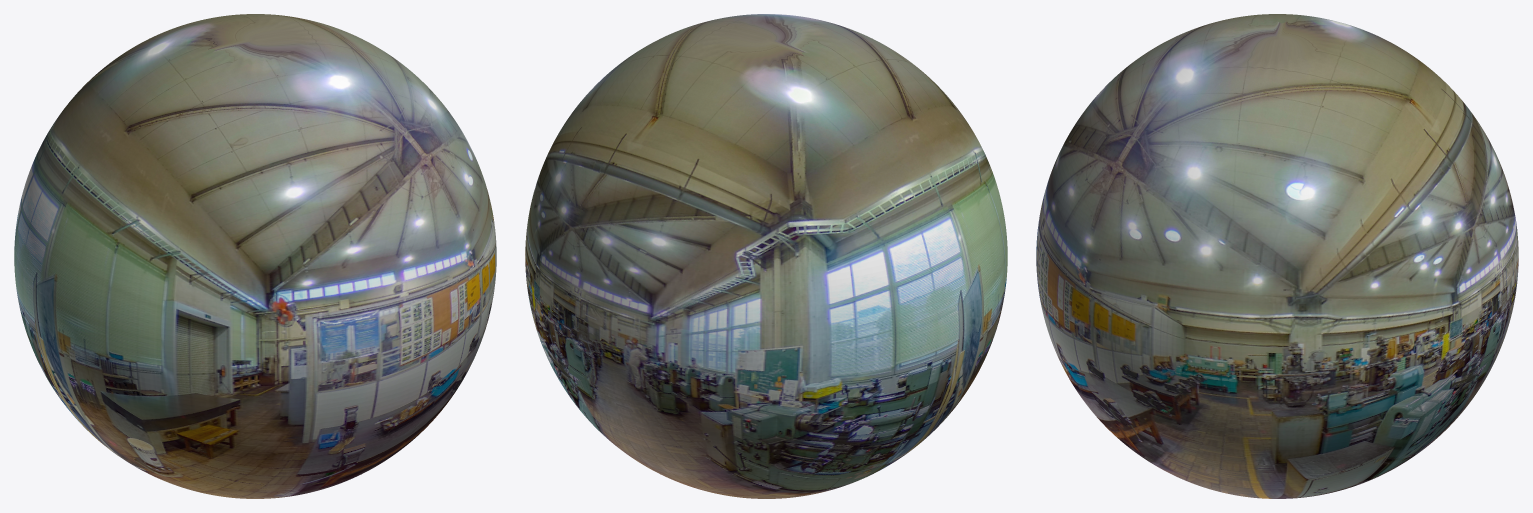
The model's file is koujoutou.fbx.
The picture shows the model from 3 angles, left to right: view 1: azimuth 30°, elevation 25°; view 2: azimuth 150°, elevation 25°; view 3: azimuth 270°, elevation 25°; orthographic projection.
Visible parts, largest first — view 1: 球; view 2: 球; view 3: 球.
Part boxes in pixels (left/top/right/bottom): 球: left=14, top=14, right=496, bottom=498; 球: left=525, top=14, right=1007, bottom=498; 球: left=1036, top=14, right=1518, bottom=498.
Size of the model in its own units: 197 by 196 by 197.
1 material, 1 textured.
